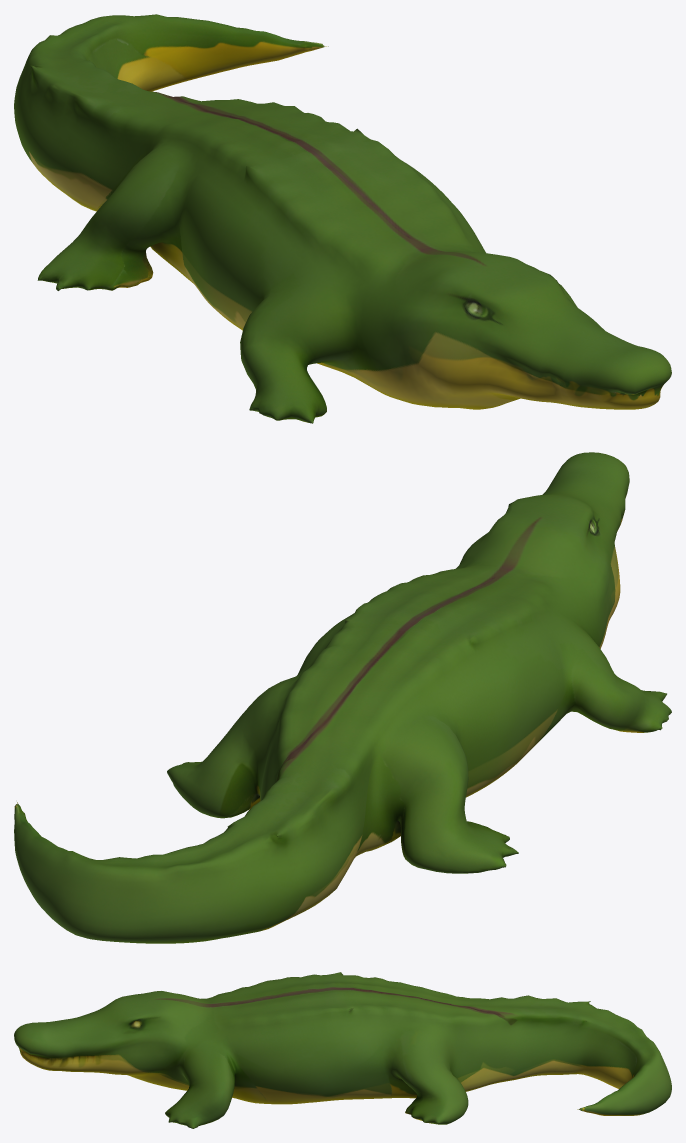
File: Poly Gator.glb
The picture shows the model from 3 angles, top to bottom: view 1: azimuth 30°, elevation 25°; view 2: azimuth 150°, elevation 25°; view 3: azimuth 270°, elevation 25°; orthographic projection. The views are drawn at different scales.
Bounding box in the file's own units: 0.8077 × 0.3077 × 1.91.
1 material, 1 textured.
